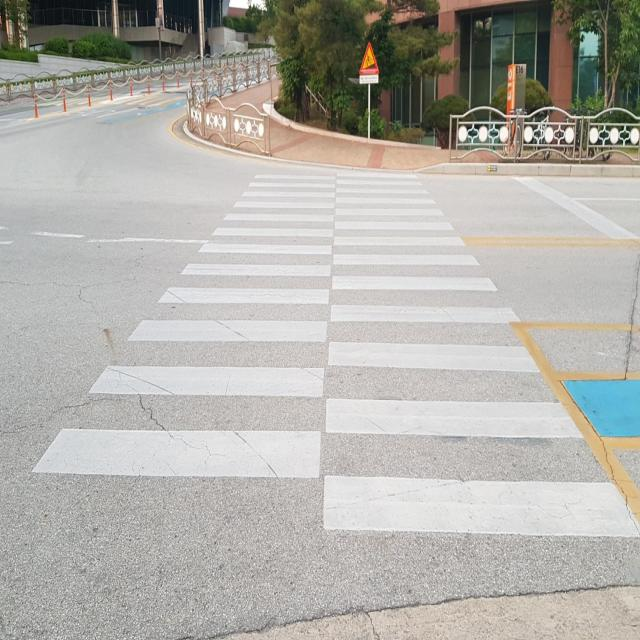횡단보도: (30, 169, 640, 540)
